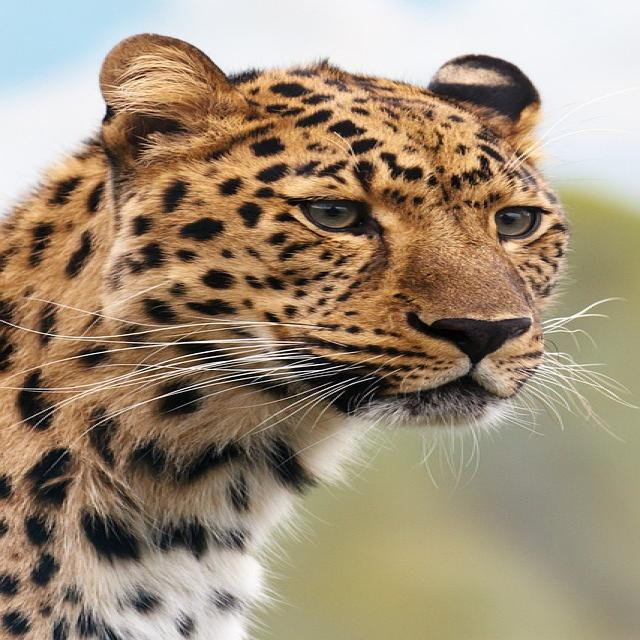Carnivorous: (0, 33, 571, 640)
